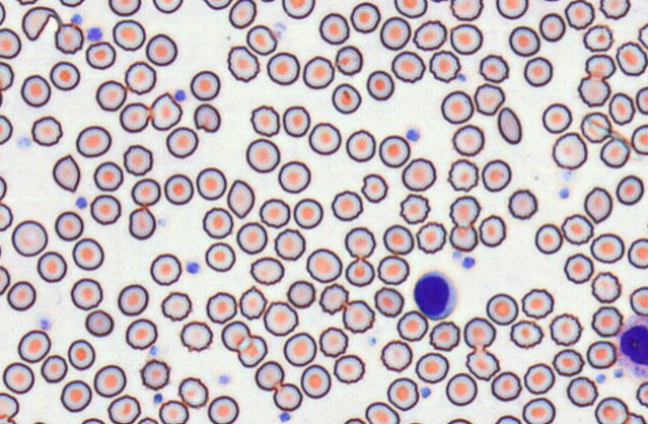GRAN: (617, 310, 648, 381)
LYM: (413, 269, 458, 320)
PLT: (86, 26, 102, 42), (186, 261, 201, 274), (406, 128, 420, 141), (419, 386, 432, 399), (462, 256, 476, 268), (76, 197, 88, 210), (152, 393, 164, 405), (279, 412, 292, 423), (559, 187, 570, 200), (40, 318, 53, 329), (71, 14, 83, 24), (175, 91, 186, 101), (596, 373, 606, 384), (612, 369, 624, 378)
RBC: (11, 219, 47, 256), (306, 247, 342, 283), (552, 132, 587, 169), (263, 300, 298, 336), (245, 138, 280, 172), (401, 157, 436, 191), (227, 45, 259, 82), (266, 51, 300, 85), (283, 331, 316, 366), (75, 125, 111, 157), (549, 312, 582, 346), (615, 41, 647, 76), (277, 160, 310, 193), (17, 329, 50, 362), (93, 364, 126, 397), (440, 90, 473, 123), (308, 121, 341, 154), (386, 377, 419, 410), (465, 348, 499, 380), (342, 299, 374, 333), (445, 372, 477, 406), (124, 60, 156, 94), (391, 50, 425, 82), (302, 55, 334, 89), (300, 363, 331, 398), (583, 186, 612, 223), (577, 75, 610, 107), (60, 379, 92, 412), (70, 277, 102, 310), (380, 339, 412, 372), (2, 361, 34, 394), (378, 134, 410, 167), (112, 19, 145, 51), (145, 33, 177, 66), (590, 232, 624, 263), (379, 16, 410, 50), (463, 316, 495, 348), (396, 309, 428, 341), (166, 126, 198, 158), (486, 293, 518, 325), (149, 253, 181, 285), (523, 362, 555, 394), (591, 305, 623, 337), (452, 124, 484, 156), (236, 334, 267, 367), (429, 49, 460, 82), (195, 167, 226, 200), (415, 352, 448, 383), (72, 237, 103, 270), (236, 221, 267, 254), (447, 158, 478, 191), (20, 74, 51, 107), (449, 23, 482, 54), (413, 19, 446, 50), (481, 158, 511, 192), (249, 256, 284, 285), (580, 111, 611, 143), (274, 228, 305, 260), (344, 226, 375, 258), (36, 250, 67, 282), (566, 376, 598, 407), (206, 291, 237, 323), (95, 79, 126, 111), (561, 213, 593, 244), (415, 221, 446, 253), (377, 254, 409, 285), (180, 320, 212, 351), (117, 283, 148, 315), (202, 206, 233, 238), (125, 318, 157, 349), (590, 271, 621, 303), (139, 358, 170, 390), (508, 25, 540, 56), (345, 129, 375, 162), (509, 319, 543, 348), (238, 285, 267, 319), (107, 394, 141, 423), (204, 241, 235, 272), (220, 320, 251, 351), (399, 193, 430, 224), (331, 190, 362, 221), (449, 195, 480, 226), (119, 101, 150, 132), (429, 320, 460, 351), (599, 137, 630, 168), (31, 115, 62, 146), (541, 102, 572, 133), (318, 282, 348, 314), (521, 288, 553, 318), (163, 173, 193, 205), (382, 224, 414, 254), (160, 291, 192, 321), (331, 82, 361, 114), (250, 104, 280, 136), (350, 1, 380, 33), (319, 12, 349, 44), (497, 106, 522, 144), (594, 396, 629, 423), (318, 326, 348, 357), (490, 371, 521, 401), (49, 60, 80, 90), (90, 194, 121, 224), (259, 198, 290, 228), (293, 197, 323, 228), (507, 188, 537, 219), (374, 286, 404, 317), (178, 376, 208, 407), (189, 70, 220, 100), (333, 354, 365, 383), (123, 144, 152, 176), (478, 214, 506, 247), (254, 360, 284, 390), (563, 253, 593, 283), (6, 280, 36, 310), (93, 161, 123, 191), (479, 53, 509, 83), (54, 22, 83, 53), (54, 210, 83, 241), (615, 174, 644, 205), (67, 338, 95, 370), (552, 348, 584, 376), (282, 105, 310, 137), (207, 395, 239, 423), (128, 206, 155, 239), (608, 92, 635, 125), (272, 382, 302, 411), (586, 340, 616, 369), (523, 56, 552, 86), (564, 0, 594, 29), (534, 223, 562, 254), (85, 41, 116, 69), (366, 69, 394, 100), (582, 24, 613, 52), (522, 397, 555, 423), (345, 257, 374, 286), (131, 177, 160, 206), (84, 309, 114, 337), (334, 45, 362, 75), (286, 280, 315, 308), (228, 0, 256, 28), (449, 224, 478, 251), (40, 354, 67, 383), (538, 12, 565, 41), (585, 53, 615, 79), (365, 401, 399, 423), (158, 399, 188, 423), (450, 0, 483, 21), (0, 27, 21, 58), (281, 0, 315, 19), (495, 0, 528, 19), (627, 237, 647, 268), (394, 0, 427, 18), (599, 0, 630, 19), (0, 392, 19, 421), (629, 286, 647, 316), (108, 0, 141, 16), (631, 124, 647, 155), (0, 60, 14, 90), (152, 0, 183, 13), (0, 114, 13, 144), (0, 202, 12, 231), (635, 86, 647, 114), (635, 380, 647, 407), (0, 265, 10, 295), (203, 0, 232, 10), (622, 411, 646, 423), (638, 22, 648, 49), (494, 414, 521, 423), (0, 175, 7, 200), (59, 0, 84, 7), (446, 417, 472, 423), (136, 416, 158, 423), (80, 417, 105, 423), (343, 417, 366, 423), (0, 1, 5, 25), (17, 0, 37, 5), (403, 421, 426, 424), (540, 0, 561, 2), (260, 0, 275, 2)
Schistocyte: (19, 5, 55, 43), (150, 90, 182, 131), (51, 154, 82, 193), (226, 179, 256, 219), (474, 83, 507, 116), (246, 25, 278, 55), (360, 172, 389, 205), (195, 105, 222, 134)
